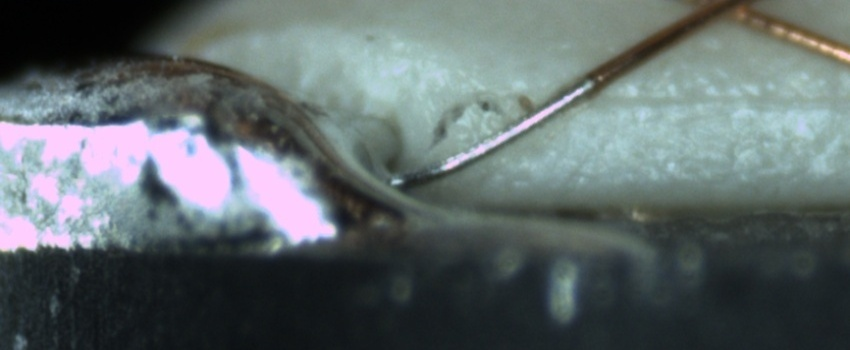CL: (673, 1, 798, 36)
DL: (596, 71, 849, 132)
TS: (390, 78, 594, 186)
